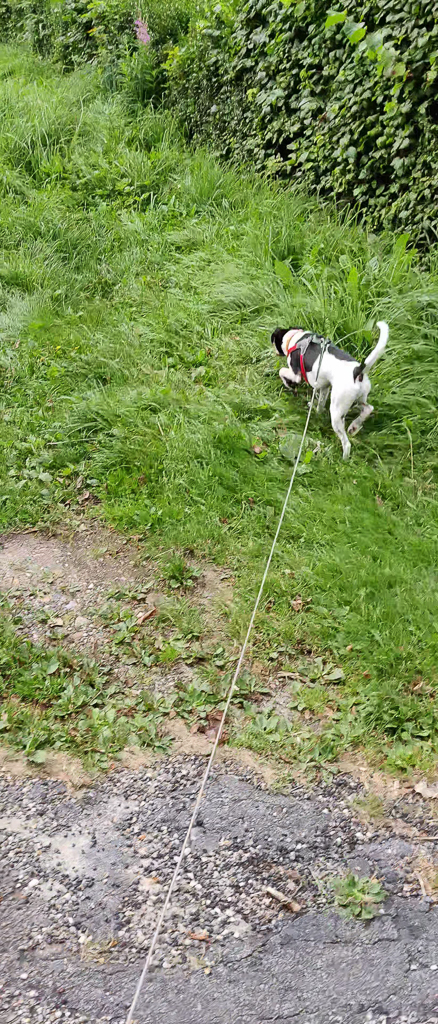Dog: (251, 292, 403, 475)
